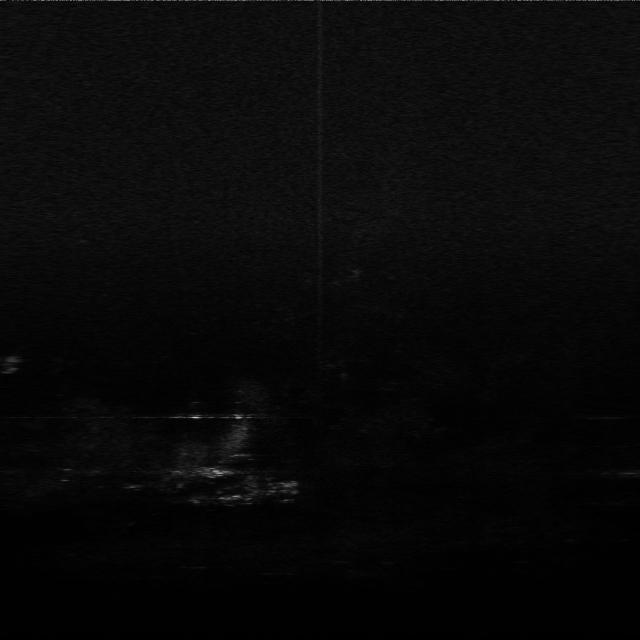rov: (192, 462, 236, 482)
